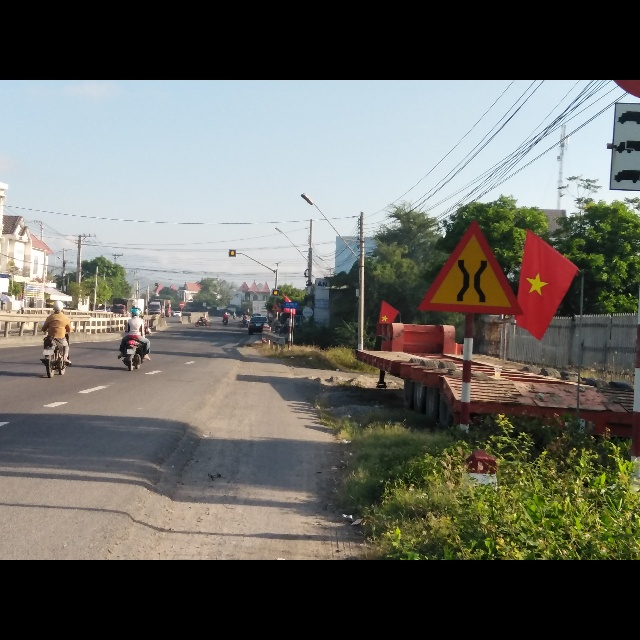Cầu hẹp: (417, 214, 526, 318)
